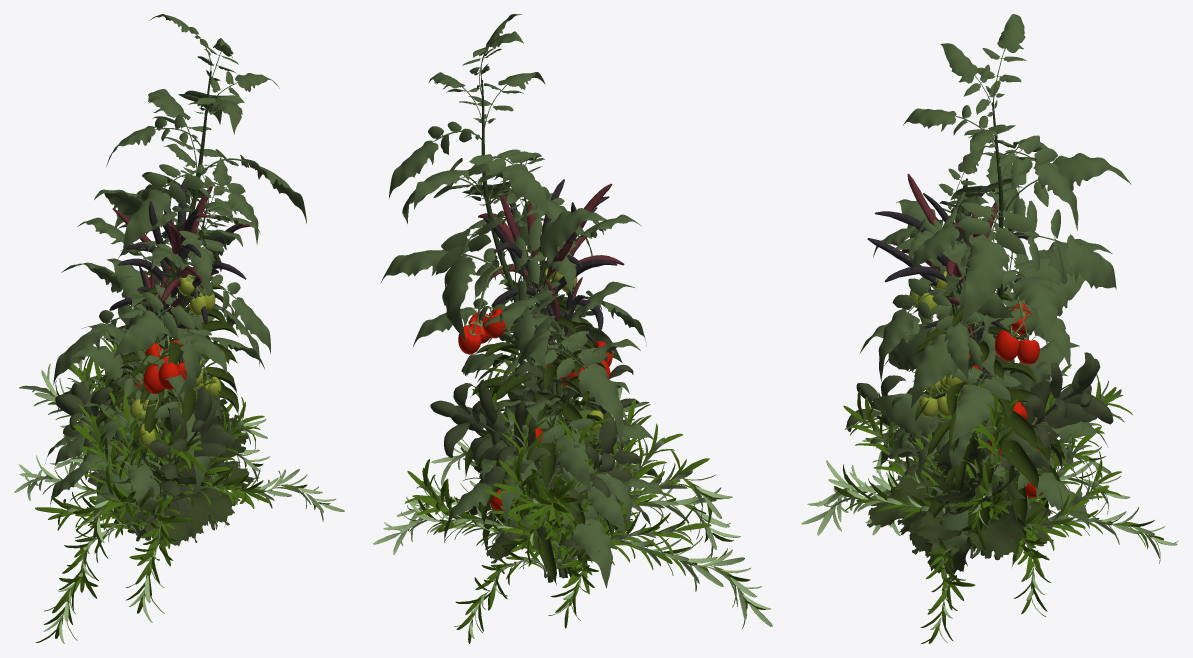
File: ripe_tom_t.glb
3 views of the same model, side by side, from view 1: azimuth 30°, elevation 25°; view 2: azimuth 150°, elevation 25°; view 3: azimuth 270°, elevation 25° (orthographic). The views are drawn at different scales.
Parts seen in each view (by area): view 1: TOMATO 18092019 2, rosemary 021023 1, TOMATO 18092019 2.001, Red pepper 24092019 2, basil 13032021 008, Lettuce 13032019 006, Red pepper 24092019 5; view 2: TOMATO 18092019 2, rosemary 021023 1, TOMATO 18092019 2.001, Red pepper 24092019 2, basil 13032021 008, Red pepper 24092019 5, Lettuce 13032019 006; view 3: TOMATO 18092019 2, rosemary 021023 1, TOMATO 18092019 2.001, Red pepper 24092019 2, Lettuce 13032019 006, basil 13032021 008.
Boxes of the visible parts, box(x1,y1,x2,y2) form: TOMATO 18092019 2: box(50, 14, 306, 533); rosemary 021023 1: box(14, 337, 344, 643); TOMATO 18092019 2.001: box(44, 143, 270, 523); Red pepper 24092019 2: box(96, 179, 250, 535); basil 13032021 008: box(55, 304, 235, 540); Lettuce 13032019 006: box(98, 397, 258, 546); Red pepper 24092019 5: box(96, 260, 203, 495); TOMATO 18092019 2: box(381, 14, 656, 588); rosemary 021023 1: box(373, 354, 772, 643); TOMATO 18092019 2.001: box(466, 152, 666, 572); Red pepper 24092019 2: box(465, 179, 624, 585); basil 13032021 008: box(430, 350, 640, 582); Red pepper 24092019 5: box(511, 277, 619, 572); Lettuce 13032019 006: box(460, 403, 638, 577); TOMATO 18092019 2: box(873, 14, 1131, 570); rosemary 021023 1: box(801, 362, 1178, 643); TOMATO 18092019 2.001: box(859, 145, 1075, 527); Red pepper 24092019 2: box(867, 173, 1064, 567); Lettuce 13032019 006: box(867, 414, 1053, 579); basil 13032021 008: box(846, 330, 1113, 560).
Bounding box in the file's own units: 0.5659 × 0.9197 × 0.5189.
